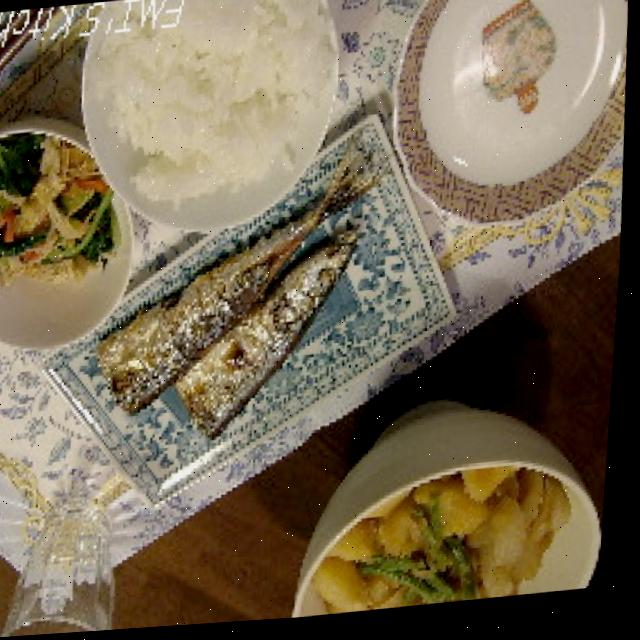熟制海鲜: (84, 216, 403, 459)
